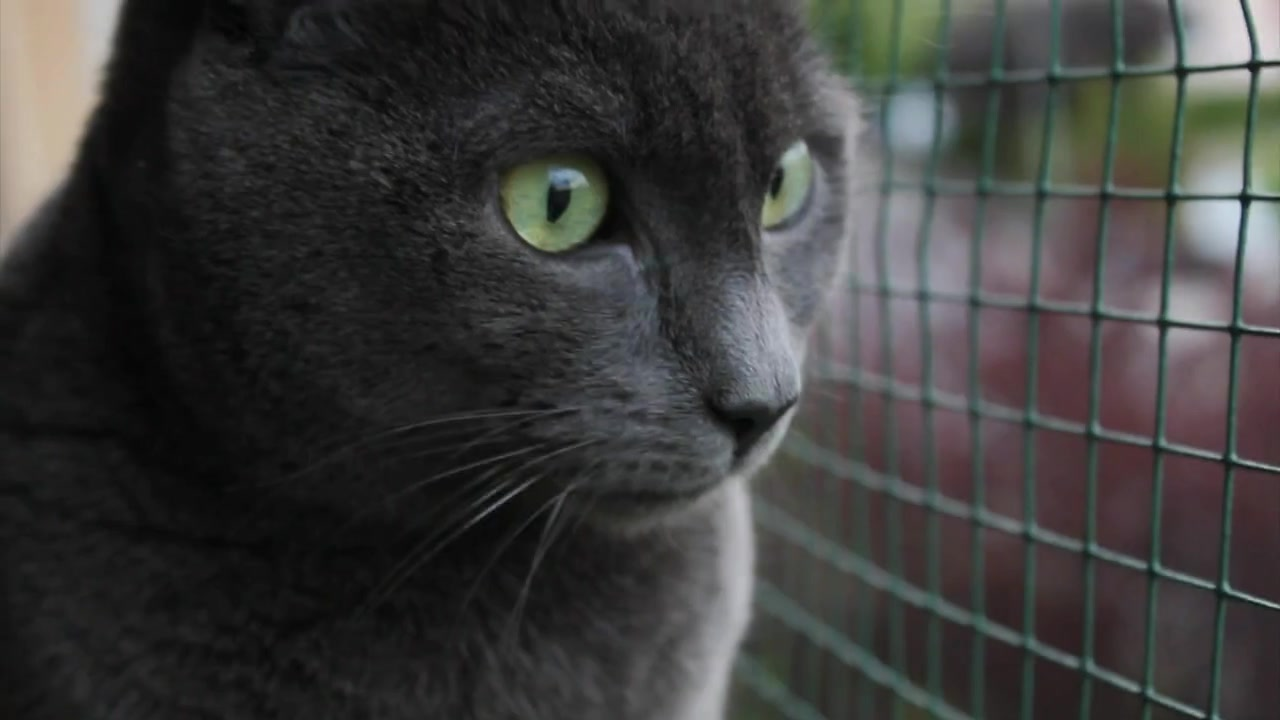cat: (1, 1, 870, 720)
